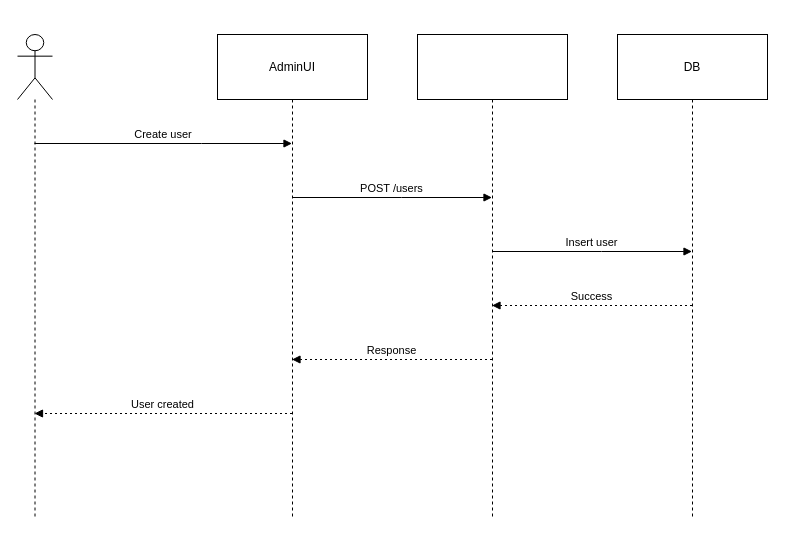
Some shapes in this 785 by 536 pixel diagram are drawn without their labels. Each missing label, with the box of its shape:
Admin: (16, 34, 52, 518)
API: (416, 34, 568, 518)
